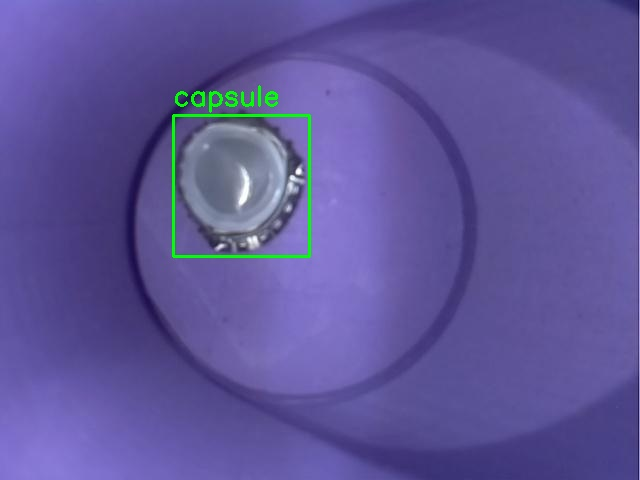capsule: (173, 115, 309, 256)
